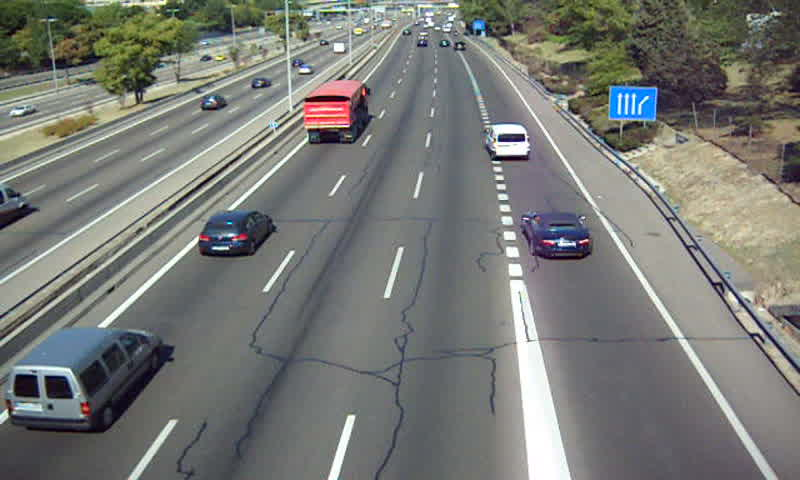car: (524, 212, 592, 259), (200, 212, 271, 256)
truck: (303, 82, 368, 145)
van: (8, 330, 160, 429), (485, 124, 530, 159)
